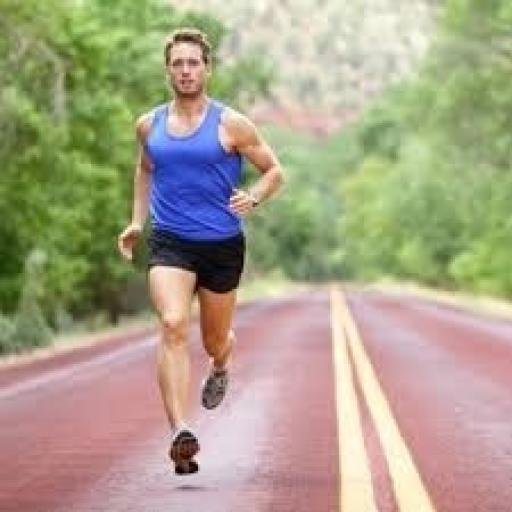running: (114, 25, 289, 478)
